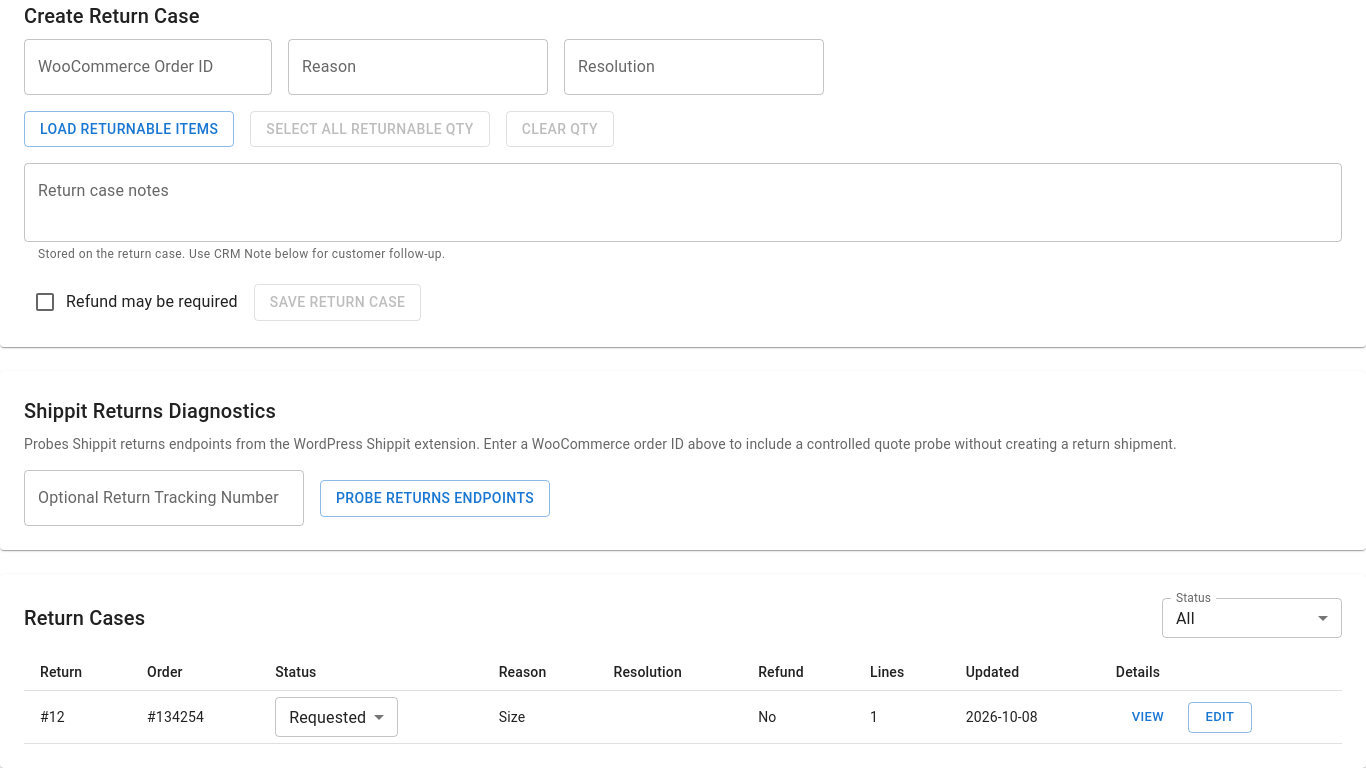
ReturnsPage Shippit workflow › does not tick the sender box when a Requested case has an empty saved sender
The image size is (1366, 768).
(page scrolled)
Expected: the text "#12" is shown, x1=24 y1=691 x2=131 y2=744
Click the button "Edit".
click(1220, 717)  # box x1=1188 y1=702 x2=1252 y2=733
(page scrolled)
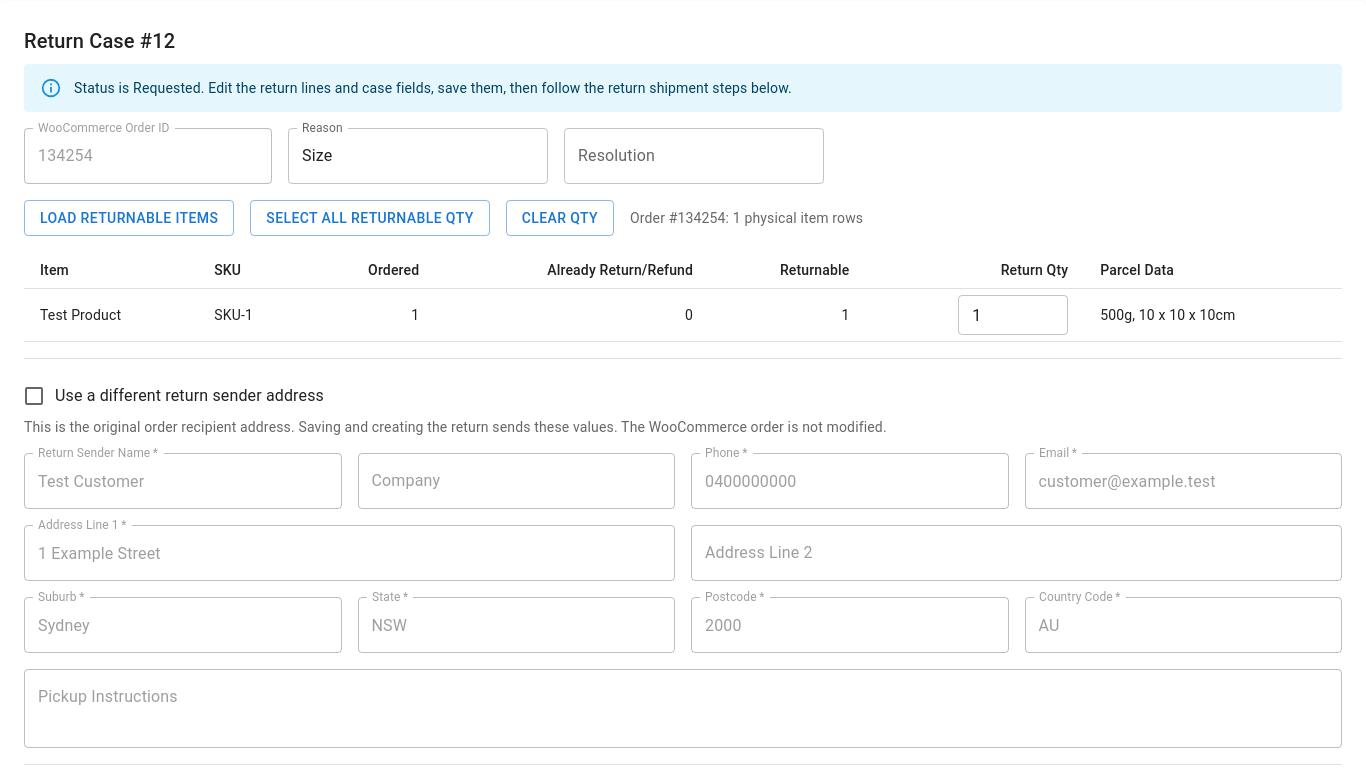
Now the checkbox labelled "Use a different return sender address" is not checked, box x1=22 y1=384 x2=324 y2=408
Now the field labelled "Address Line 1 *" holds "1 Example Street", box x1=24 y1=525 x2=675 y2=581
Now the field labelled "Address Line 1 *" is disabled, box x1=24 y1=525 x2=675 y2=581
